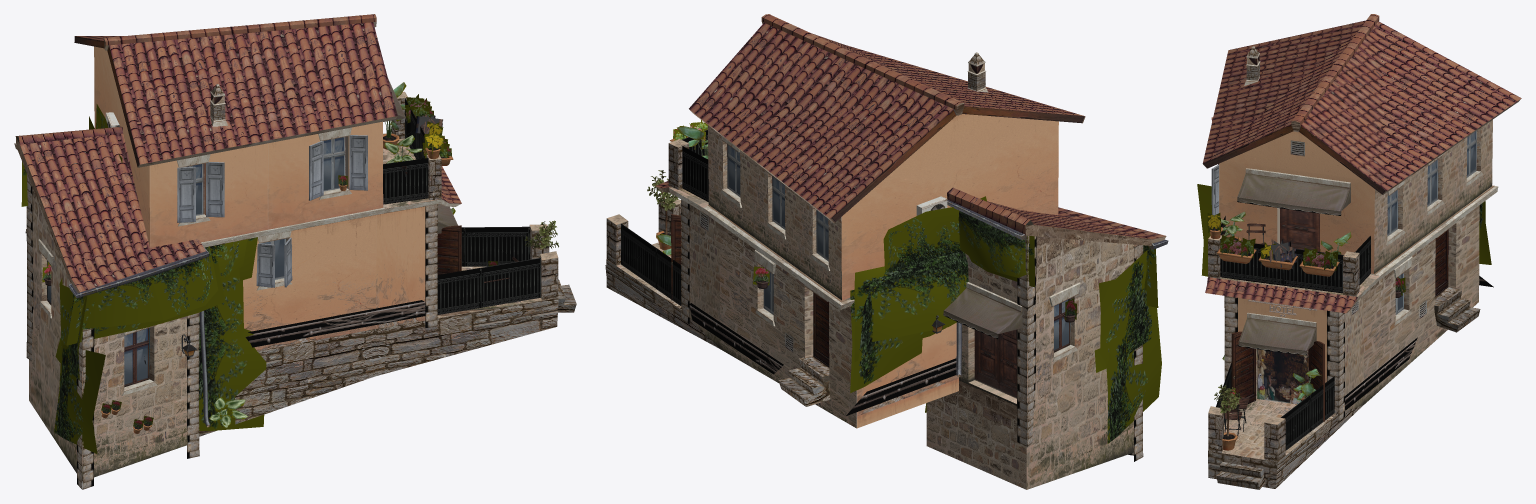
File: house_3.fbx
3 renders of one model, left to right at view 1: azimuth 30°, elevation 25°; view 2: azimuth 150°, elevation 25°; view 3: azimuth 270°, elevation 25°, orthographic. The views are drawn at different scales.
Visible parts, largest first — view 1: House_3; view 2: House_3; view 3: House_3.
Boxes of the visible parts, box(x1,y1,x2,y2) form: House_3: box(14, 14, 576, 489); House_3: box(605, 14, 1168, 489); House_3: box(1197, 14, 1521, 489).
Bounding box in the file's own units: 1664 × 1143 × 957.
